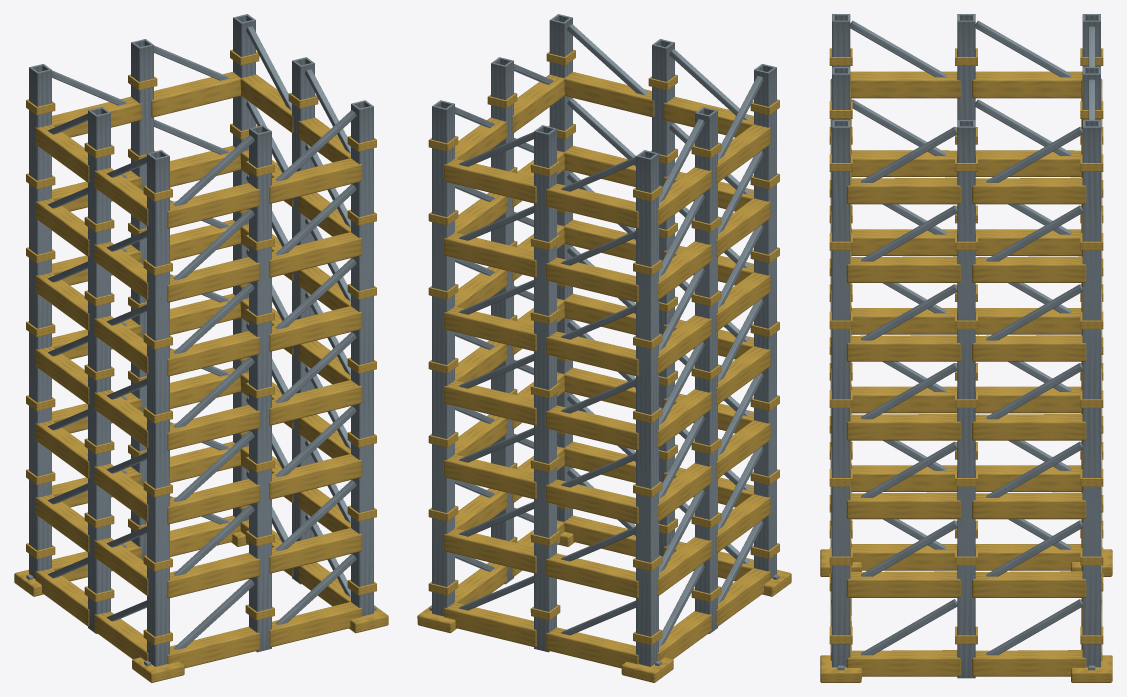
3 renders of one model, left to right at view 1: azimuth 30°, elevation 25°; view 2: azimuth 150°, elevation 25°; view 3: azimuth 270°, elevation 25°, orthographic. The views are drawn at different scales.
Visible parts, largest first — view 1: Tier 0 side 0 post 0, Tier 0 side 1 post 0, Tier 0 side 0 post 1, Tier 0 side 3 post 0, Tier 0 side 3 post 1, Tier 0 side 2 post 1, Tier 0 side 1 post 1, Tier 0 side 2 post 0, Tier 0 bay 0-2-1 service deck, Tier 0 bay 0-3-1 service deck, Tier 0 bay 0-6-0 service deck, Tier 0 bay 0-4-1 service deck (+67 smaller); view 2: Tier 0 side 3 post 0, Tier 0 side 2 post 0, Tier 0 side 2 post 1, Tier 0 side 0 post 0, Tier 0 side 3 post 1, Tier 0 side 1 post 1, Tier 0 side 0 post 1, Tier 0 side 1 post 0, Tier 0 bay 2-2-1 service deck, Tier 0 bay 2-1-1 service deck, Tier 0 bay 2-5-1 service deck, Tier 0 bay 2-3-0 service deck (+79 smaller); view 3: Tier 0 side 1 post 0, Tier 0 side 2 post 0, Tier 0 side 1 post 1, Tier 0 bay 1-2-1 service deck, Tier 0 bay 1-2-0 service deck, Tier 0 bay 1-6-0 service deck, Tier 0 bay 1-6-1 service deck, Tier 0 bay 1-3-0 service deck, Tier 0 bay 1-3-1 service deck, Tier 0 bay 3-6-0 service deck, Tier 0 bay 3-6-1 service deck, Tier 0 bay 1-4-0 service deck (+54 smaller).
Part boxes in pixels (x1,y1,x2,y2): Tier 0 side 0 post 0: (147, 150, 169, 666); Tier 0 side 1 post 0: (351, 100, 373, 616); Tier 0 side 0 post 1: (249, 125, 271, 652); Tier 0 side 3 post 0: (29, 64, 51, 578); Tier 0 side 3 post 1: (88, 107, 110, 633); Tier 0 side 2 post 1: (131, 39, 153, 560); Tier 0 side 1 post 1: (292, 57, 314, 584); Tier 0 side 2 post 0: (233, 14, 255, 521); Tier 0 bay 0-2-1 service deck: (269, 454, 362, 499); Tier 0 bay 0-3-1 service deck: (269, 380, 362, 425); Tier 0 bay 0-6-0 service deck: (167, 183, 260, 228); Tier 0 bay 0-4-1 service deck: (269, 306, 362, 351); Tier 0 side 3 post 0: (636, 150, 658, 666); Tier 0 side 2 post 0: (432, 100, 454, 616); Tier 0 side 2 post 1: (534, 125, 556, 652); Tier 0 side 0 post 0: (754, 64, 776, 578); Tier 0 side 3 post 1: (695, 107, 717, 633); Tier 0 side 1 post 1: (491, 57, 513, 584); Tier 0 side 0 post 1: (652, 39, 674, 556); Tier 0 side 1 post 0: (549, 14, 572, 521); Tier 0 bay 2-2-1 service deck: (545, 479, 638, 524); Tier 0 bay 2-1-1 service deck: (545, 553, 638, 598); Tier 0 bay 2-5-1 service deck: (545, 257, 638, 302); Tier 0 bay 2-3-0 service deck: (443, 380, 536, 425); Tier 0 side 1 post 0: (832, 120, 850, 667); Tier 0 side 2 post 0: (1082, 120, 1100, 667); Tier 0 side 1 post 1: (957, 120, 975, 678); Tier 0 bay 1-2-1 service deck: (972, 492, 1086, 519); Tier 0 bay 1-2-0 service deck: (846, 492, 960, 519); Tier 0 bay 1-6-0 service deck: (846, 177, 960, 204); Tier 0 bay 1-6-1 service deck: (972, 177, 1086, 204); Tier 0 bay 1-3-0 service deck: (846, 414, 960, 440); Tier 0 bay 1-3-1 service deck: (972, 414, 1086, 440); Tier 0 bay 3-6-0 service deck: (972, 71, 1082, 98); Tier 0 bay 3-6-1 service deck: (850, 71, 960, 98); Tier 0 bay 1-4-0 service deck: (846, 335, 960, 361).
Bounding box in the file's own units: 1.05 × 2.18 × 1.05.
Materials: 2 (2 with a texture image).
